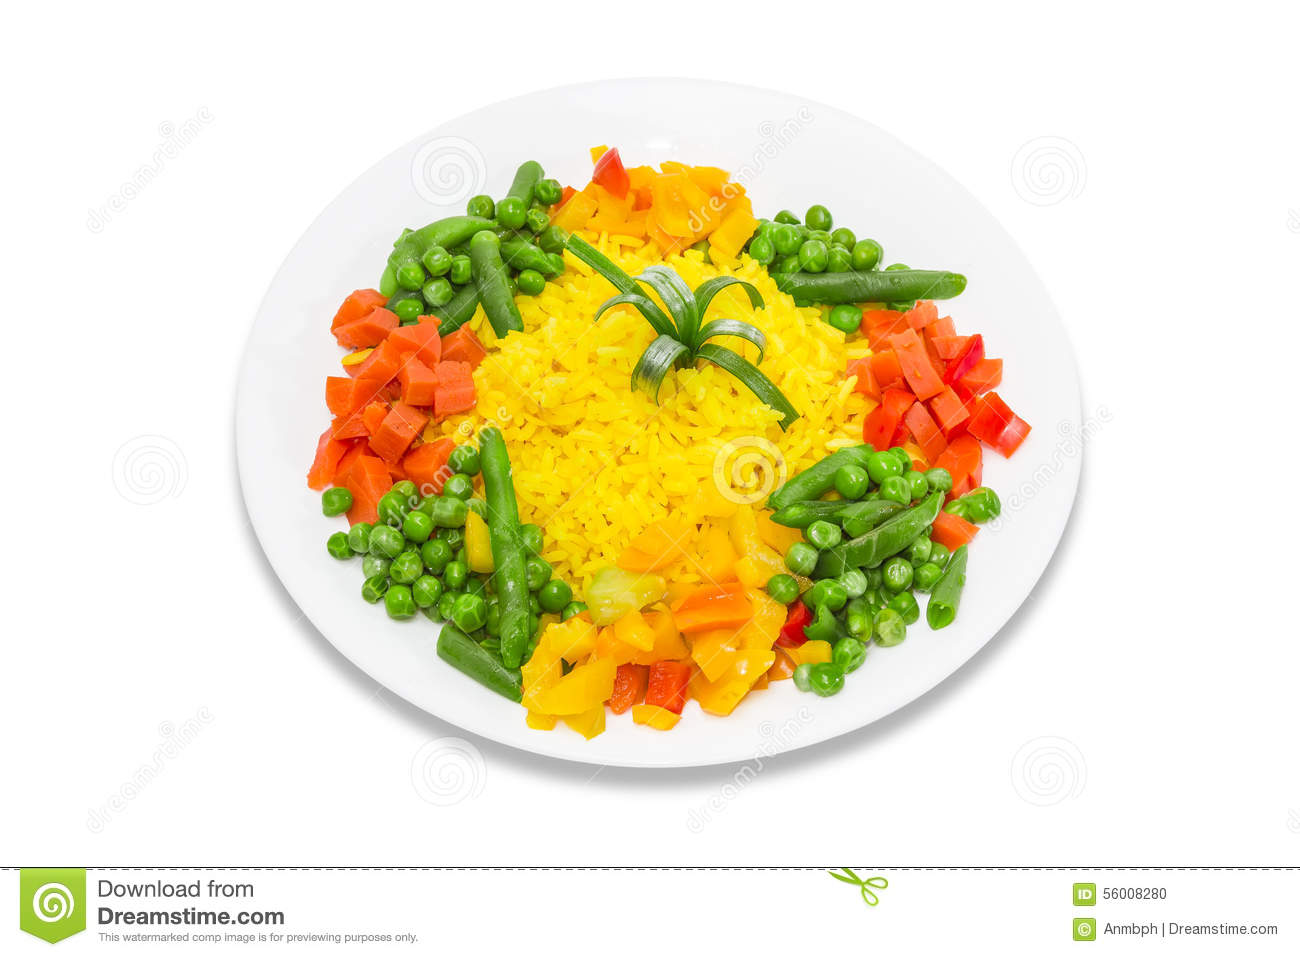boiled peas: (353, 472, 535, 668), (796, 464, 959, 659), (369, 180, 554, 297), (761, 199, 920, 313)
plain rice: (475, 281, 840, 525)
